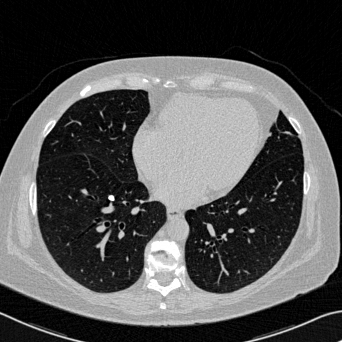nodule: (108, 195, 114, 201)
